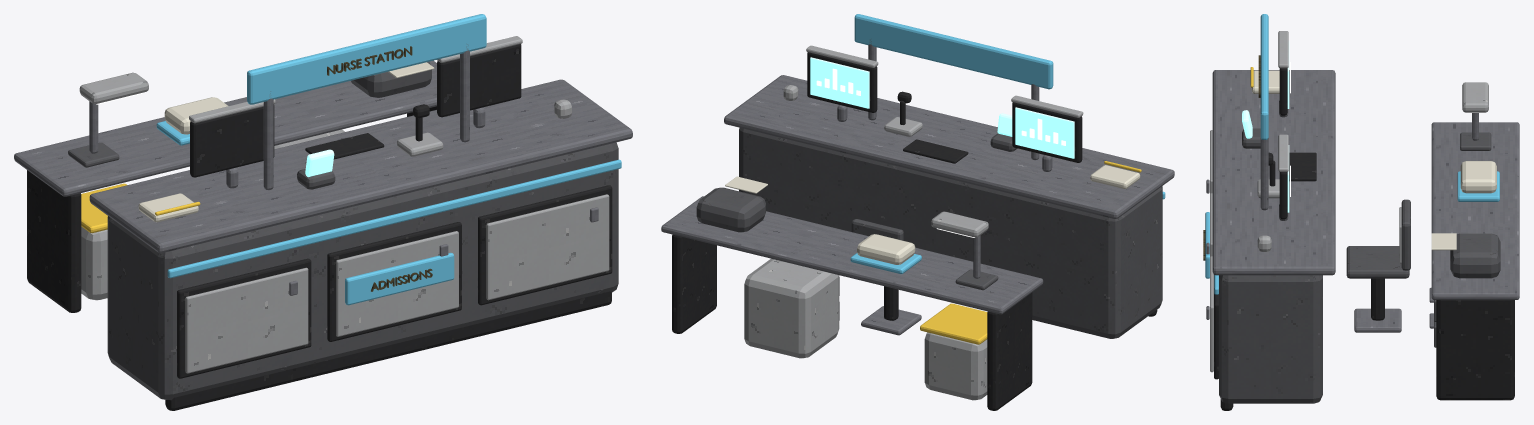
Rendered from decor_med_nurse_station.glb.
The picture shows the model from 3 angles, left to right: view 1: azimuth 30°, elevation 25°; view 2: azimuth 150°, elevation 25°; view 3: azimuth 270°, elevation 25°; orthographic projection. The views are drawn at different scales.
Visible parts, largest first — view 1: DEC_MedNurseStation__Counter_Body, DEC_MedNurseStation__Counter_Top, DEC_MedNurseStation__Worktop, DEC_MedNurseStation__Counter_Panel_1, DEC_MedNurseStation__Counter_Panel_3, DEC_MedNurseStation__Sign_Board, DEC_MedNurseStation__Counter_Panel_2, DEC_MedNurseStation__Counter_Kick, DEC_MedNurseStation__Worktop_Leg_-1, DEC_MedNurseStation__Counter_Band, DEC_MedNurseStation__Monitor_Bezel_L, DEC_MedNurseStation__Monitor_Bezel_R (+18 smaller); view 2: DEC_MedNurseStation__Counter_Body, DEC_MedNurseStation__Counter_Top, DEC_MedNurseStation__Worktop, DEC_MedNurseStation__Worktop_Drawer_Bank, DEC_MedNurseStation__Sign_Board, DEC_MedNurseStation__Worktop_Leg_-1, DEC_MedNurseStation__Worktop_Leg_1, DEC_MedNurseStation__Worktop_Bin, DEC_MedNurseStation__Worktop_Printer, DEC_MedNurseStation__Monitor_Glow_L, DEC_MedNurseStation__Monitor_Glow_R, DEC_MedNurseStation__Worktop_Bin_Lid (+14 smaller); view 3: DEC_MedNurseStation__Counter_Top, DEC_MedNurseStation__Counter_Body, DEC_MedNurseStation__Worktop, DEC_MedNurseStation__Worktop_Leg_1, DEC_MedNurseStation__Worktop_Printer, DEC_MedNurseStation__Chair_Seat, DEC_MedNurseStation__Record_Folders, DEC_MedNurseStation__Sign_Board, DEC_MedNurseStation__Chair_Foot, DEC_MedNurseStation__Task_Lamp_Head, DEC_MedNurseStation__Keyboard, DEC_MedNurseStation__Chair_Back (+14 smaller).
Part boxes in pixels (left/top/right/bottom): DEC_MedNurseStation__Counter_Body: left=107, top=142, right=618, bottom=400; DEC_MedNurseStation__Counter_Top: left=89, top=79, right=632, bottom=253; DEC_MedNurseStation__Worktop: left=14, top=60, right=436, bottom=196; DEC_MedNurseStation__Counter_Panel_1: left=185, top=267, right=308, bottom=373; DEC_MedNurseStation__Counter_Panel_3: left=486, top=194, right=609, bottom=300; DEC_MedNurseStation__Sign_Board: left=247, top=14, right=486, bottom=104; DEC_MedNurseStation__Counter_Panel_2: left=336, top=231, right=458, bottom=336; DEC_MedNurseStation__Counter_Kick: left=165, top=291, right=611, bottom=410; DEC_MedNurseStation__Worktop_Leg_-1: left=27, top=170, right=81, bottom=312; DEC_MedNurseStation__Counter_Band: left=167, top=159, right=621, bottom=278; DEC_MedNurseStation__Monitor_Bezel_L: left=190, top=104, right=274, bottom=177; DEC_MedNurseStation__Monitor_Bezel_R: left=437, top=44, right=521, bottom=117; DEC_MedNurseStation__Counter_Body: left=739, top=128, right=1162, bottom=338; DEC_MedNurseStation__Counter_Top: left=724, top=75, right=1174, bottom=218; DEC_MedNurseStation__Worktop: left=661, top=196, right=1043, bottom=314; DEC_MedNurseStation__Worktop_Drawer_Bank: left=744, top=258, right=839, bottom=358; DEC_MedNurseStation__Sign_Board: left=854, top=14, right=1053, bottom=89; DEC_MedNurseStation__Worktop_Leg_-1: left=987, top=292, right=1032, bottom=410; DEC_MedNurseStation__Worktop_Leg_1: left=672, top=234, right=716, bottom=333; DEC_MedNurseStation__Worktop_Bin: left=924, top=332, right=987, bottom=400; DEC_MedNurseStation__Worktop_Printer: left=696, top=187, right=765, bottom=232; DEC_MedNurseStation__Monitor_Glow_L: left=1015, top=107, right=1074, bottom=158; DEC_MedNurseStation__Monitor_Glow_R: left=810, top=57, right=869, bottom=108; DEC_MedNurseStation__Worktop_Bin_Lid: left=920, top=303, right=987, bottom=344; DEC_MedNurseStation__Counter_Top: left=1212, top=70, right=1335, bottom=275; DEC_MedNurseStation__Counter_Body: left=1219, top=275, right=1322, bottom=403; DEC_MedNurseStation__Worktop: left=1431, top=122, right=1519, bottom=299; DEC_MedNurseStation__Worktop_Leg_1: left=1436, top=300, right=1514, bottom=400; DEC_MedNurseStation__Worktop_Printer: left=1450, top=233, right=1500, bottom=278; DEC_MedNurseStation__Chair_Seat: left=1346, top=246, right=1409, bottom=278; DEC_MedNurseStation__Record_Folders: left=1460, top=161, right=1496, bottom=193; DEC_MedNurseStation__Sign_Board: left=1260, top=14, right=1268, bottom=139; DEC_MedNurseStation__Chair_Foot: left=1354, top=308, right=1401, bottom=332; DEC_MedNurseStation__Task_Lamp_Head: left=1462, top=82, right=1488, bottom=112; DEC_MedNurseStation__Keyboard: left=1289, top=152, right=1316, bottom=181; DEC_MedNurseStation__Chair_Back: left=1401, top=199, right=1410, bottom=270.
Bounding box in the file's own units: 3 × 1.8 × 2.01.
10 materials, 4 textured.
